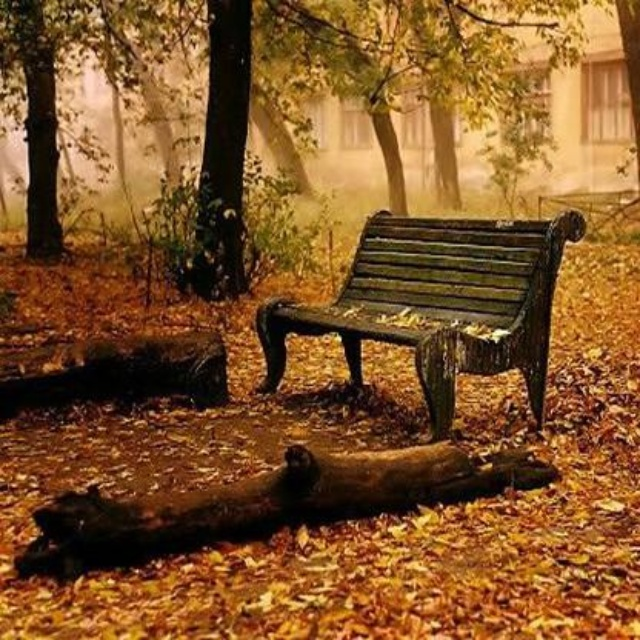obstacle: (243, 192, 589, 434)
